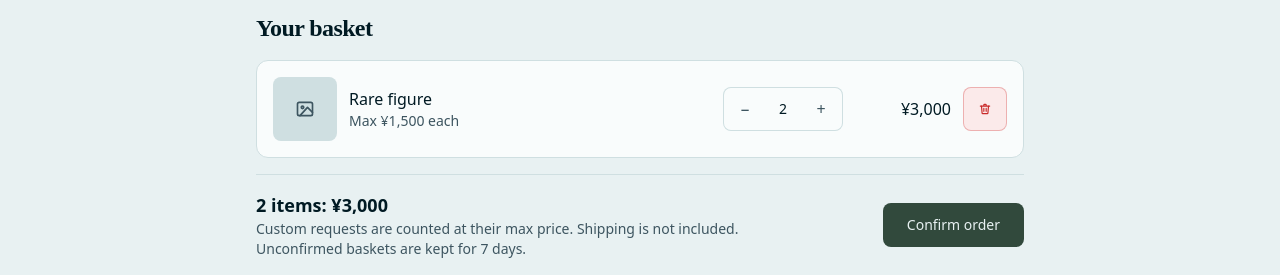
BasketPage › removes a line
Click the button named "Remove Rare figure from basket". click: {"x": 985, "y": 109}
box: [963, 87, 1007, 131]
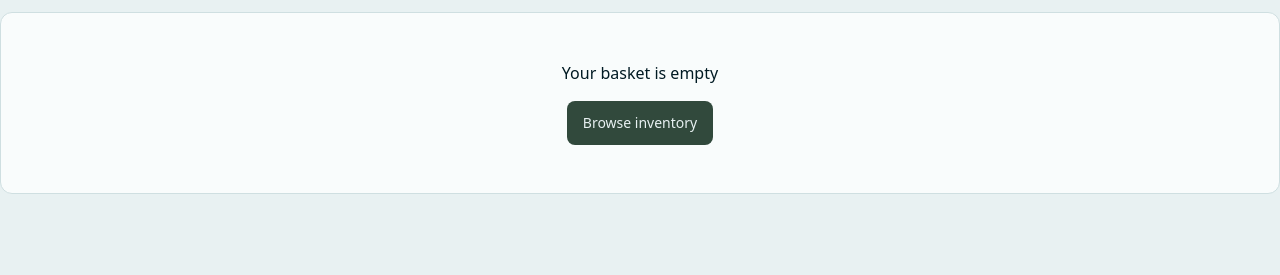
Check: the text "Your basket is empty" is shown, box [562, 61, 718, 85]
